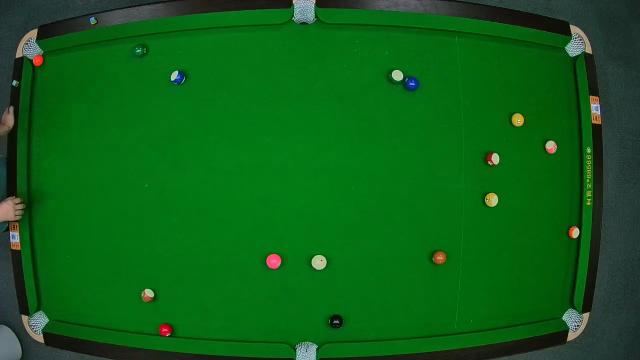bag1: (20, 40, 40, 61)
bag2: (292, 1, 316, 25)
bag3: (566, 35, 588, 55)
bag4: (28, 311, 48, 333)
bag5: (293, 340, 319, 360)
bag6: (562, 308, 582, 332)
ball0: (311, 254, 327, 272)
ball1: (509, 112, 523, 127)
ball10: (170, 68, 186, 86)
ball11: (486, 151, 500, 167)
ball12: (544, 140, 558, 154)
ball13: (568, 226, 580, 240)
ball14: (388, 69, 404, 85)
ball15: (141, 288, 155, 302)
ball2: (404, 76, 420, 90)
ball3: (158, 323, 174, 337)
ball4: (266, 253, 282, 269)
ball5: (32, 56, 44, 66)
ball6: (132, 44, 148, 60)
ball7: (432, 251, 446, 265)
ball8: (328, 314, 344, 330)
ball9: (485, 192, 499, 208)
